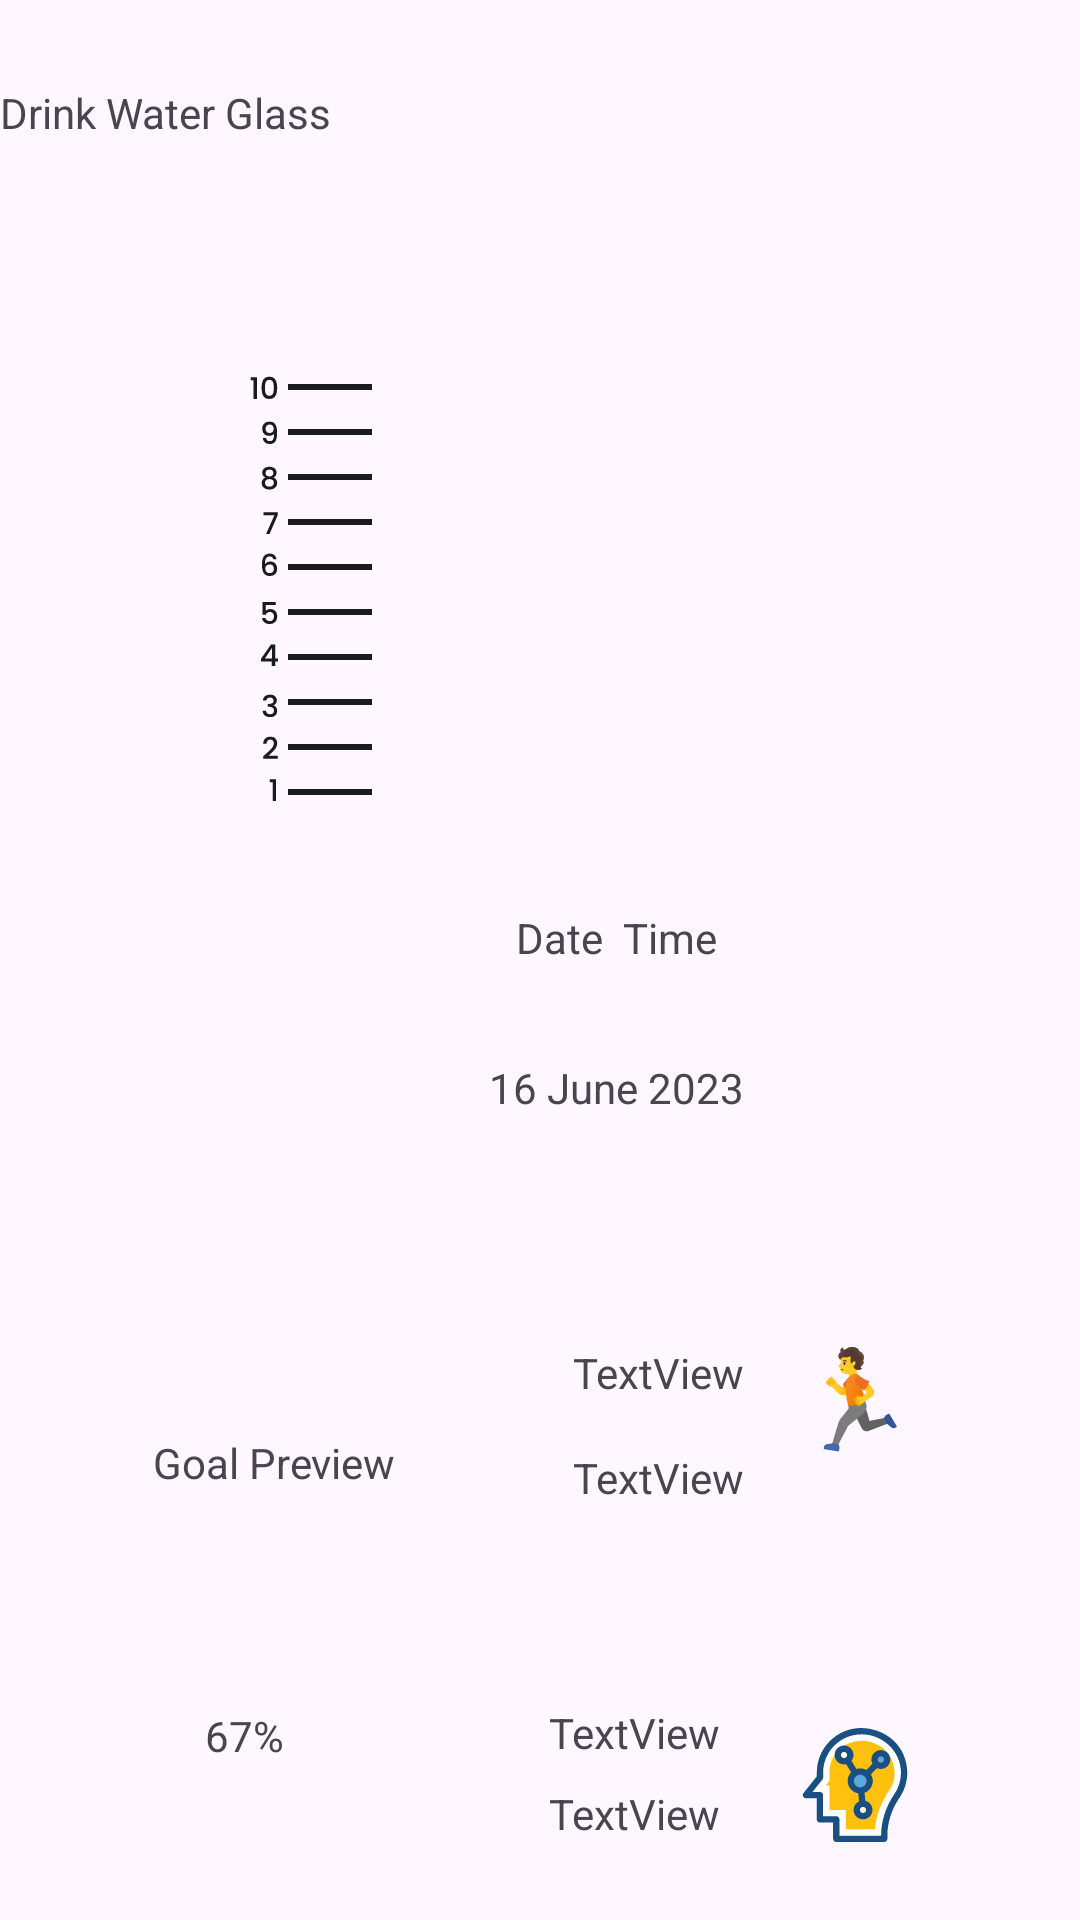

Where to tap for icons on this 1080*1920 app screen, as [x,y]:
person running: [860,1399]
thinking learning: [855,1785]
